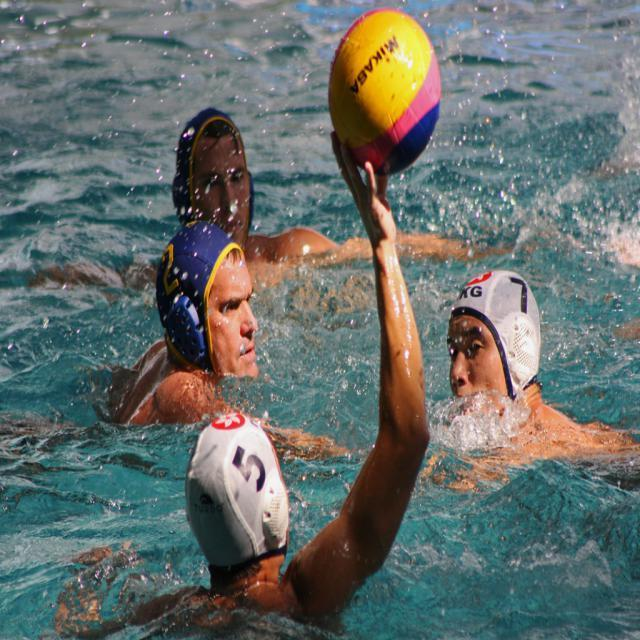football: (306, 5, 469, 185)
